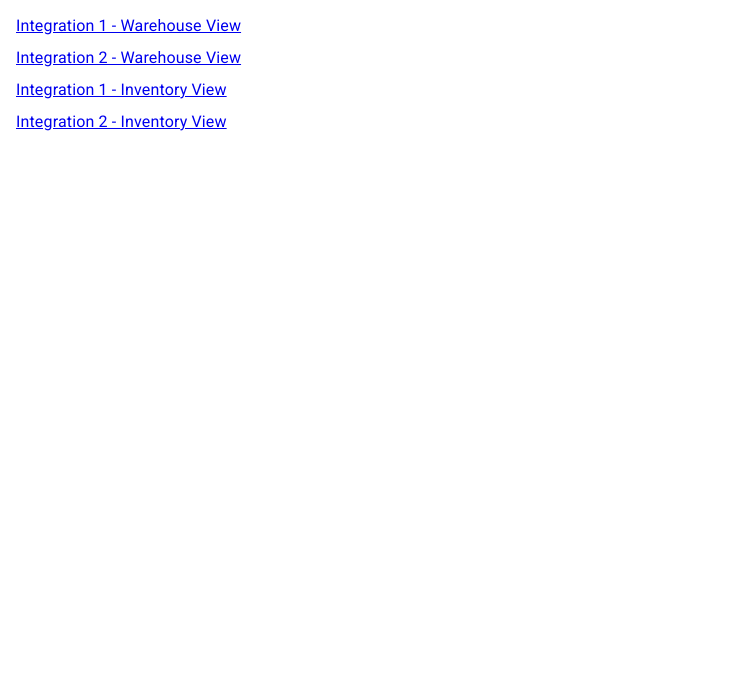
Test case: renders Integration 1 - Warehouse View
Click the link "Integration 1 - Warehouse View".
click(129, 26)  # box [16, 16, 241, 35]
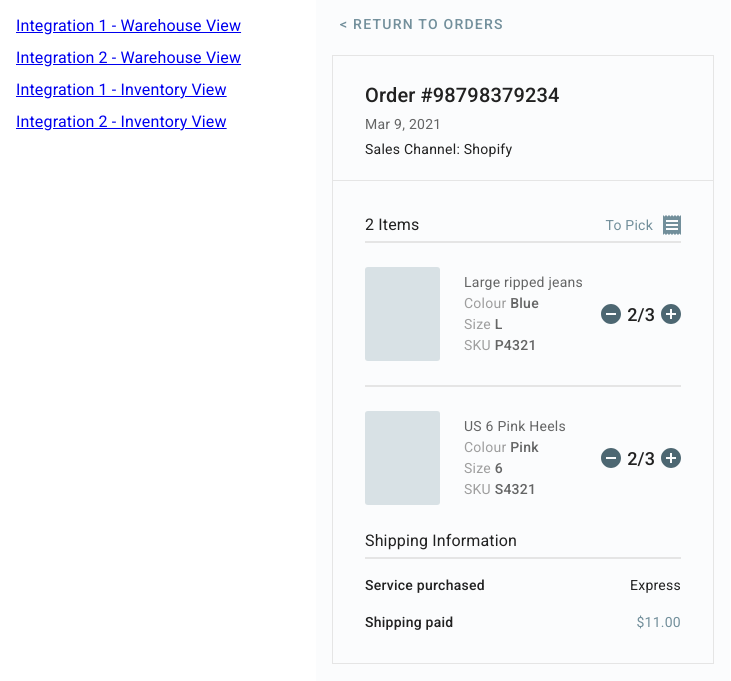
Expected: the text "Sales Channel: Shopify" is shown, [365, 141, 512, 157]
Expected: the text "Shipping Information" is shown, [365, 529, 517, 553]
